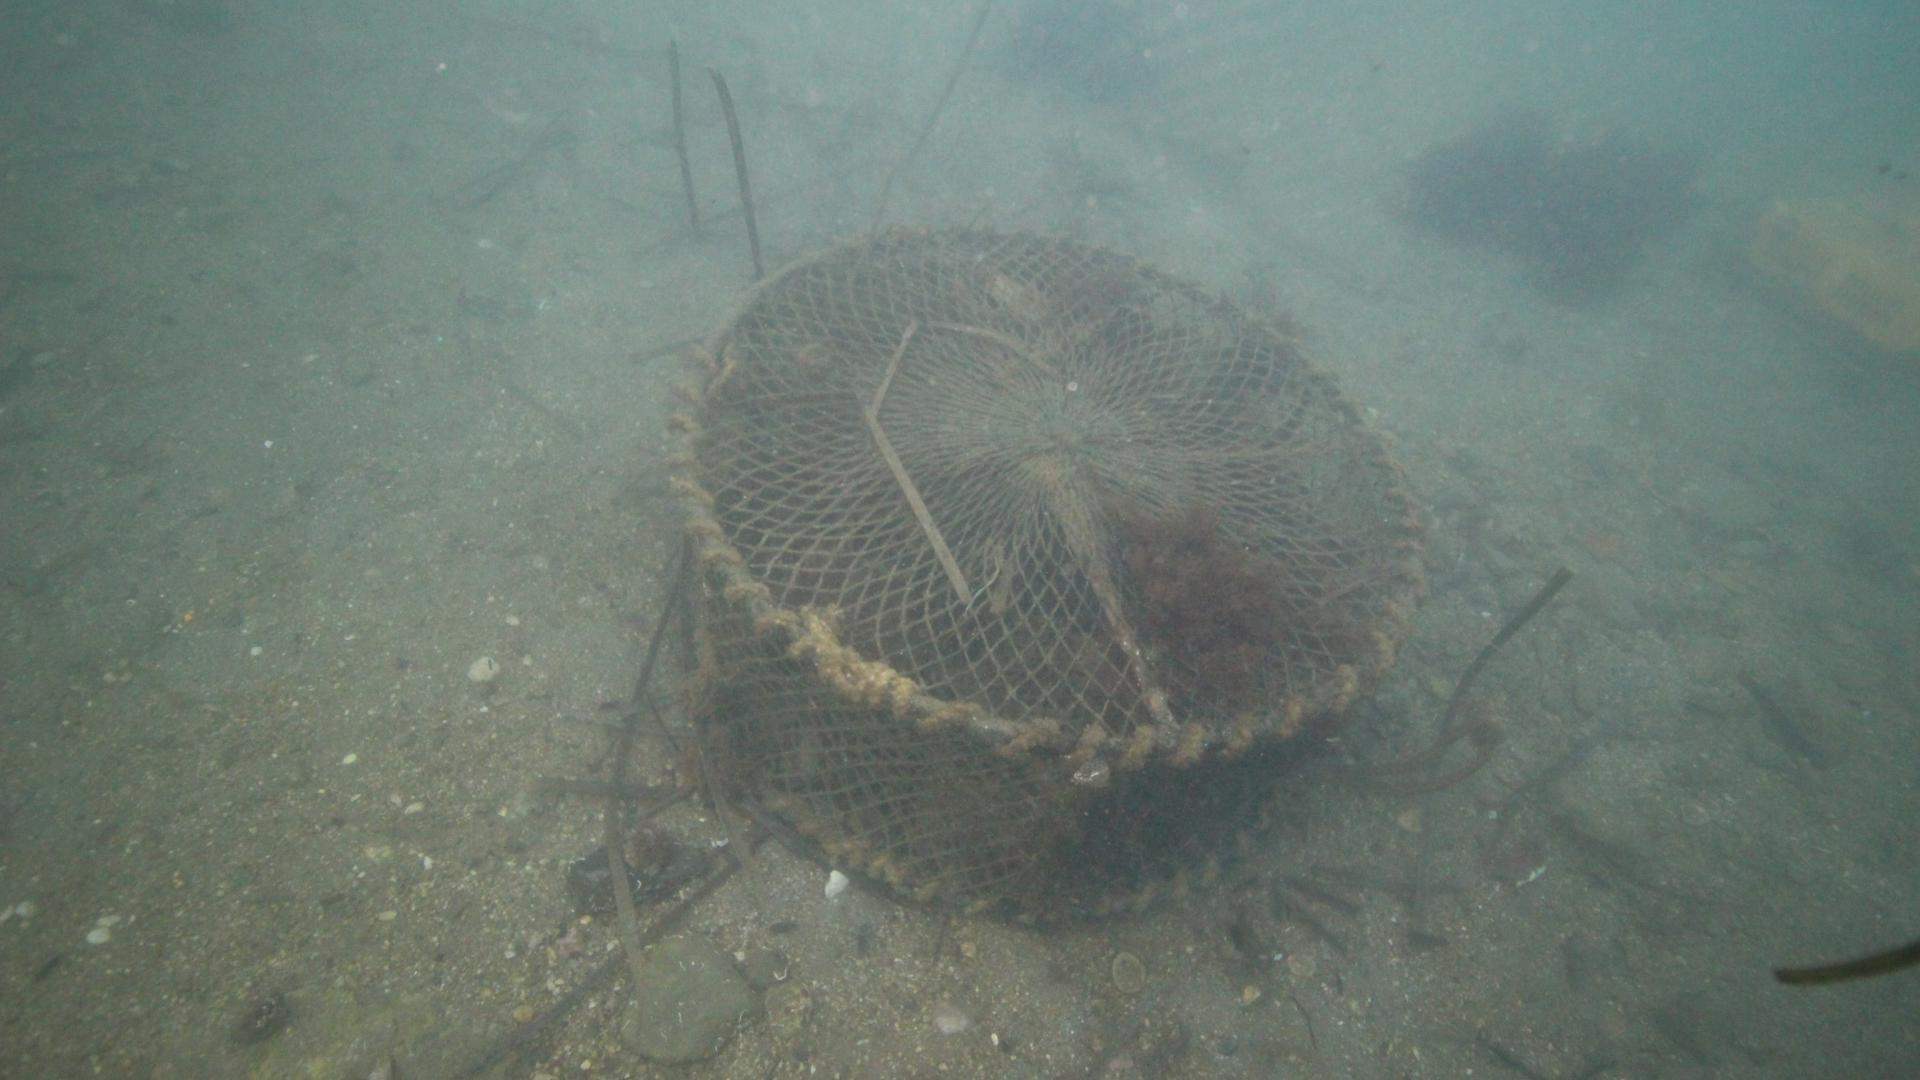circular fish trap: (662, 222, 1429, 923)
